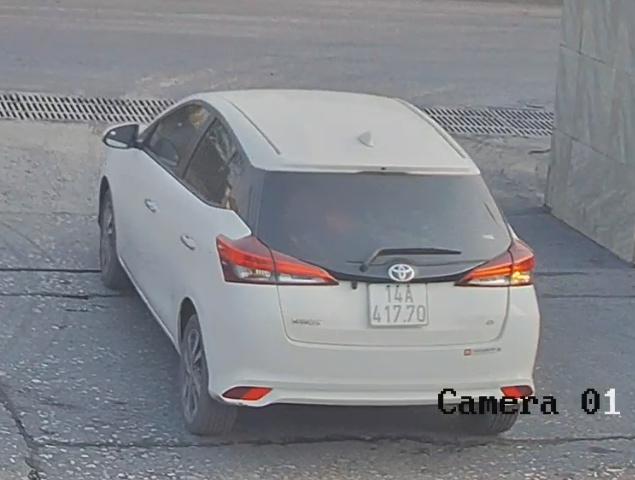vehicle plate: (364, 276, 429, 327)
